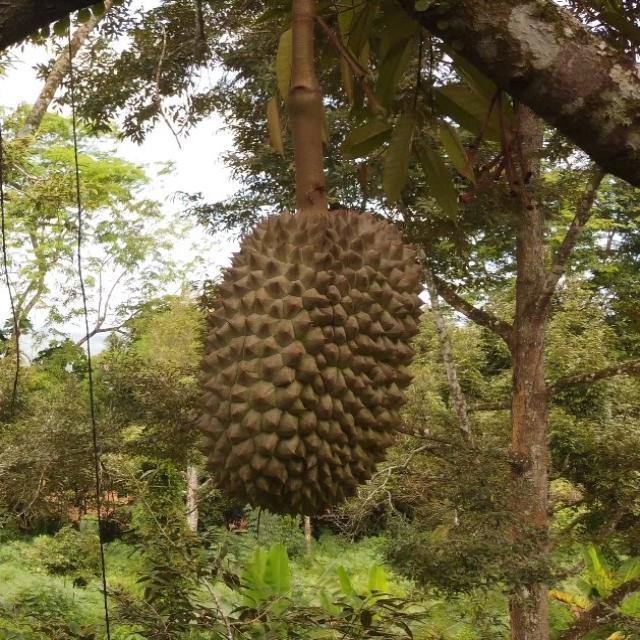mature: (196, 200, 428, 520)
